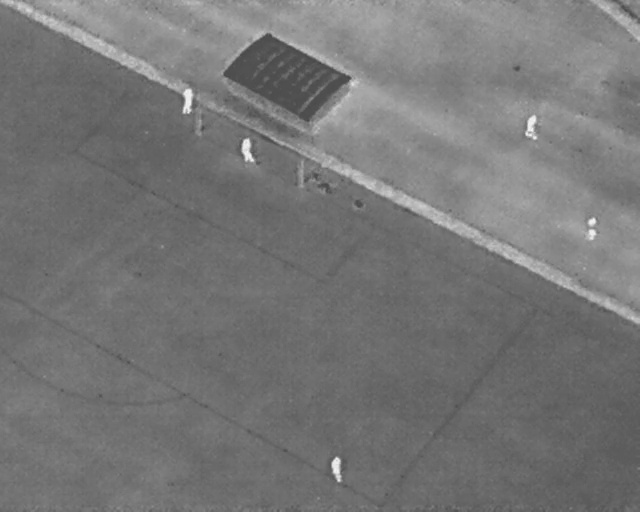Person: (327, 453, 347, 486), (237, 134, 257, 166), (521, 111, 541, 142), (584, 213, 598, 244), (180, 86, 193, 114)
